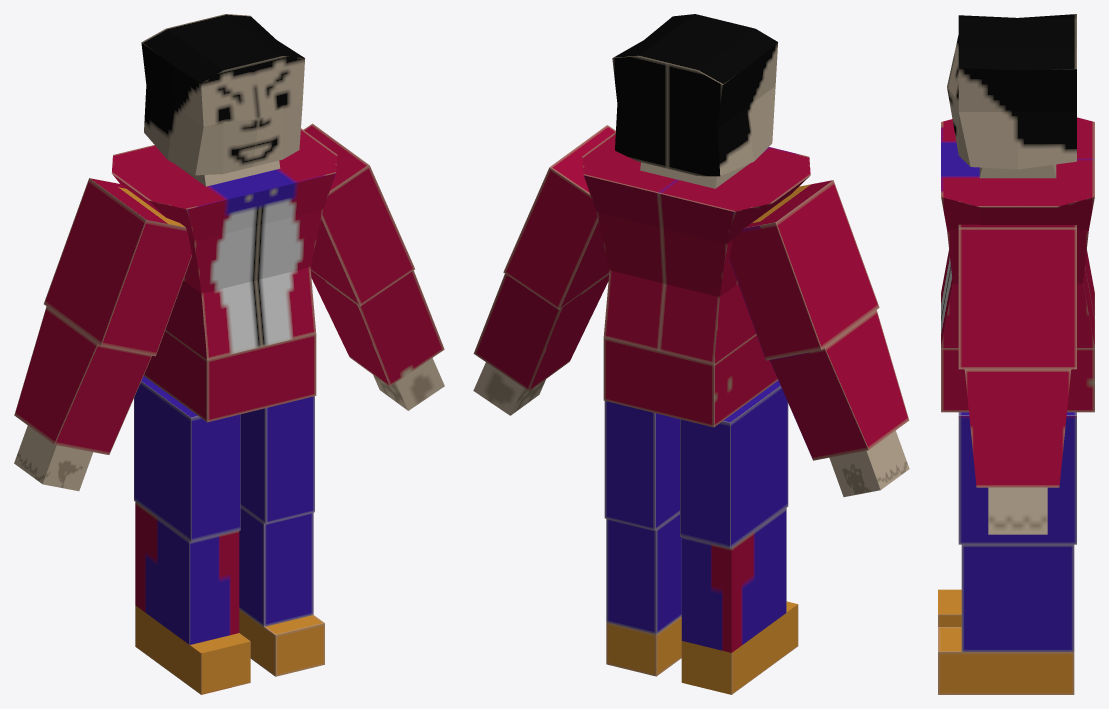
The model's file is Co-star.fbx.
3 renders of one model, left to right at view 1: azimuth 30°, elevation 25°; view 2: azimuth 150°, elevation 25°; view 3: azimuth 270°, elevation 25°, orthographic. The views are drawn at different scales.
Visible parts, largest first — view 1: Chest, Head, Bisept, LeftThigh_2, ForeArm, LeftThigh_3, Pelvis, LeftBisept, LeftThigh, LeftForeArm, LeftThigh_1, LeftFoot_1 (+3 smaller); view 2: Chest, Head, Bisept, LeftThigh_2, ForeArm, LeftThigh_3, Pelvis, LeftBisept, LeftThigh, LeftForeArm, LeftThigh_1, LeftFoot_1 (+3 smaller); view 3: Head, LeftBisept, Chest, LeftThigh_1, LeftForeArm, LeftFoot, LeftThigh, Pelvis, Lefthand, LeftFoot_1.
Part boxes in pixels (x1,y1,x2,y2): Chest: (111,128,337,359); Head: (141,14,304,175); Bisept: (44,178,191,356); LeftThigh_2: (134,376,240,542); ForeArm: (14,306,151,454); LeftThigh_3: (135,502,239,644); Pelvis: (143,330,316,422); LeftBisept: (303,123,414,306); LeftThigh: (240,396,314,524); LeftForeArm: (311,270,444,386); LeftThigh_1: (239,506,313,626); LeftFoot_1: (135,605,250,694); Chest: (582,132,810,364); Head: (612,14,777,176); Bisept: (729,180,879,360); LeftThigh_2: (680,380,788,548); ForeArm: (769,310,909,460); LeftThigh_3: (681,508,786,652); Pelvis: (603,334,778,427); LeftBisept: (503,125,615,309); LeftThigh: (604,401,679,530); LeftForeArm: (473,274,608,391); LeftThigh_1: (606,512,681,634); LeftFoot_1: (681,601,798,694); Head: (947,14,1076,169); LeftBisept: (958,224,1076,369); Chest: (941,117,1094,347); LeftThigh_1: (961,544,1074,651); LeftForeArm: (964,369,1071,487); LeftFoot: (938,627,1074,694); LeftThigh: (958,412,1076,544); Pelvis: (941,348,1094,412); Lefthand: (988,487,1047,534); LeftFoot_1: (938,589,961,626).
Size of the model in its own units: 254 by 367 by 82.81.
1 material, 1 textured.
